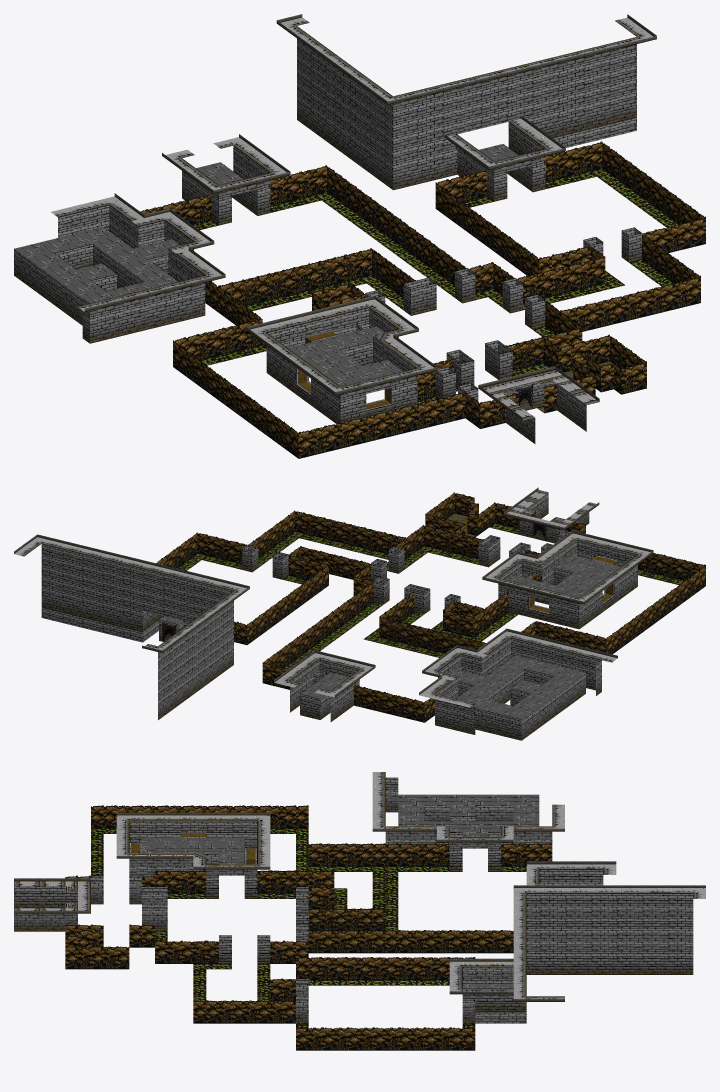
Rendered from MAP.fbx.
3 views of the same model, one above another, from view 1: azimuth 30°, elevation 25°; view 2: azimuth 150°, elevation 25°; view 3: azimuth 270°, elevation 25° (orthographic). The views are drawn at different scales.
Visible parts, largest first — view 1: MAP; view 2: MAP; view 3: MAP.
Part boxes in pixels (bbox=[...]): MAP: bbox=[14, 14, 705, 458]; MAP: bbox=[14, 487, 705, 740]; MAP: bbox=[14, 772, 705, 1050].
Bounding box in the file's own units: 51 × 7.25 × 54.
Materials: 10 (10 with a texture image).
